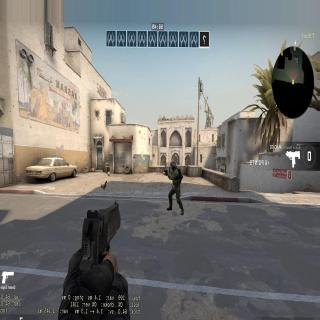CT-Body: (165, 158, 184, 218)
CT-Head: (170, 161, 177, 170)
